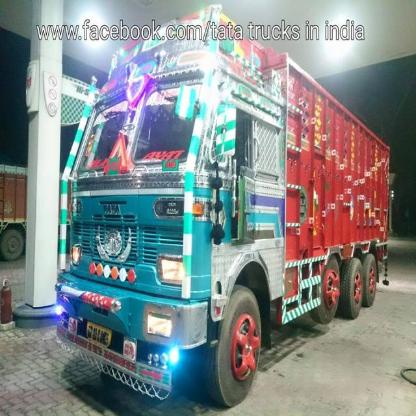truck: (44, 16, 390, 390)
